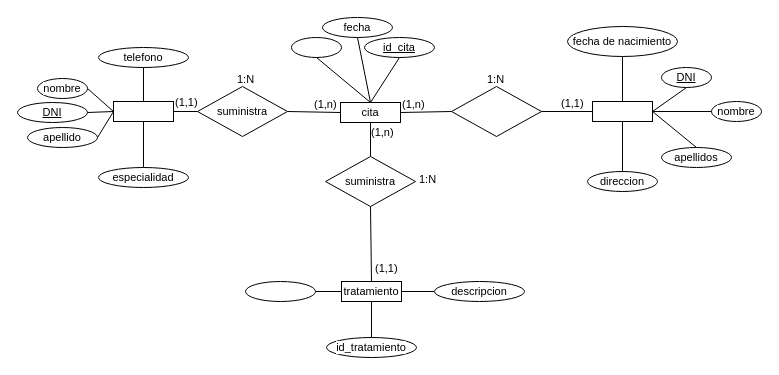
This 779x375 diagram has some shape labels left out. The centre of each missing label's shape, as x and y in pixels:
costo: the point at 280,291
hora: the point at 316,47
odontlogo: the point at 143,111
paciente: the point at 622,111
vende: the point at 496,111
